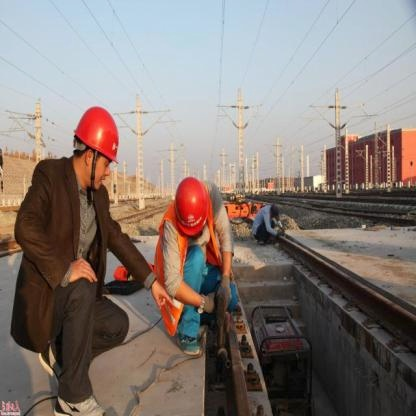red: (71, 102, 125, 166), (171, 171, 214, 237)
vest: (151, 197, 188, 340)
